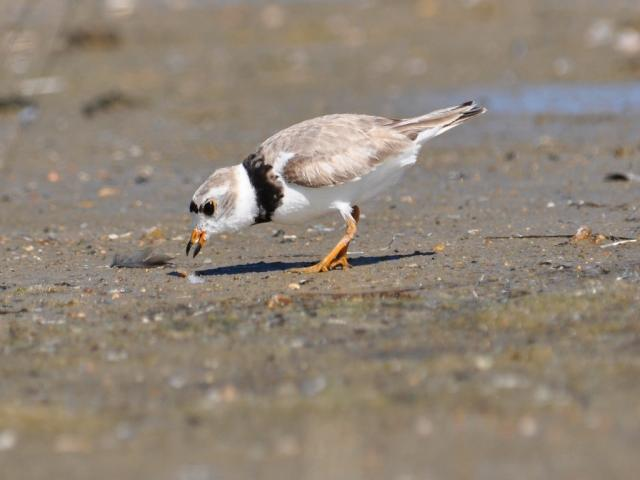Bird: (182, 99, 486, 275)
